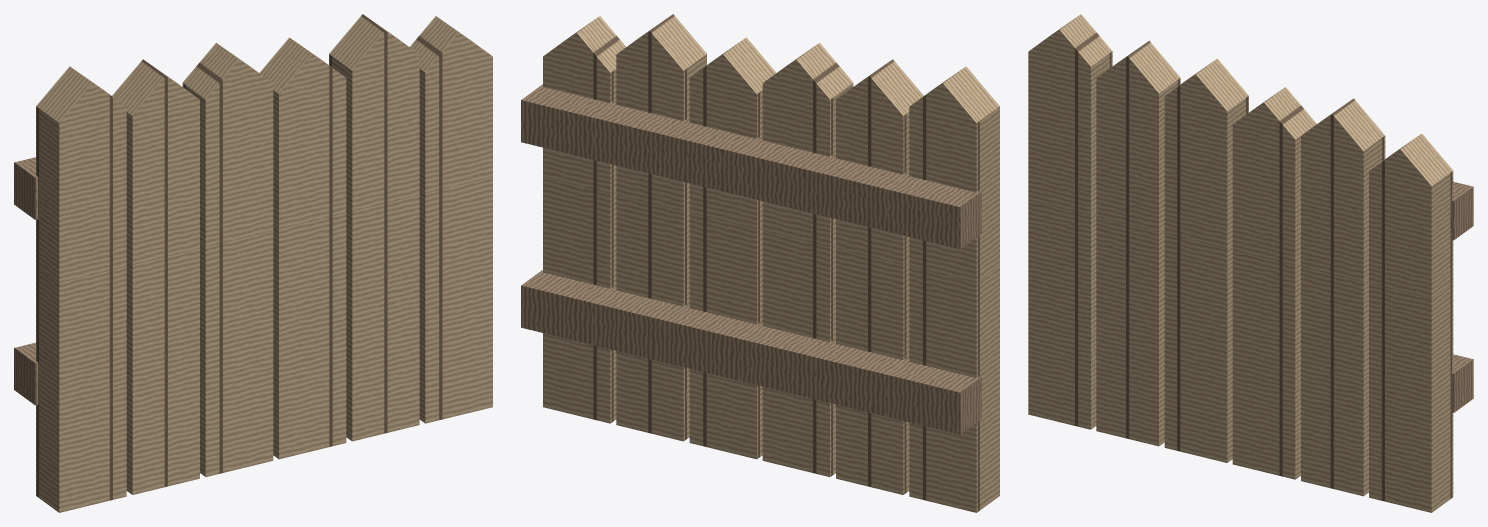
Rendered from 나무울타리.fbx.
3 views of the same model, side by side, from view 1: azimuth 30°, elevation 25°; view 2: azimuth 150°, elevation 25°; view 3: azimuth 330°, elevation 25° (orthographic). The views are drawn at different scales.
Parts seen in each view (by area): view 1: 나무울타리; view 2: 나무울타리; view 3: 나무울타리.
Boxes of the visible parts, x1=… form: 나무울타리: x1=14, y1=14, x2=492, y2=512; 나무울타리: x1=521, y1=14, x2=999, y2=512; 나무울타리: x1=1028, y1=14, x2=1473, y2=512.
Bounding box in the file's own units: 600 × 550 × 100.
2 materials, 2 textured.
